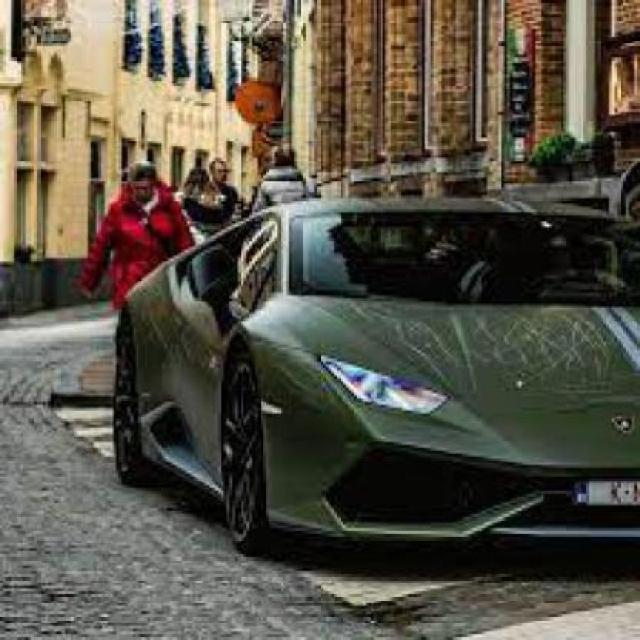bonnet-dent: (265, 288, 639, 440)
